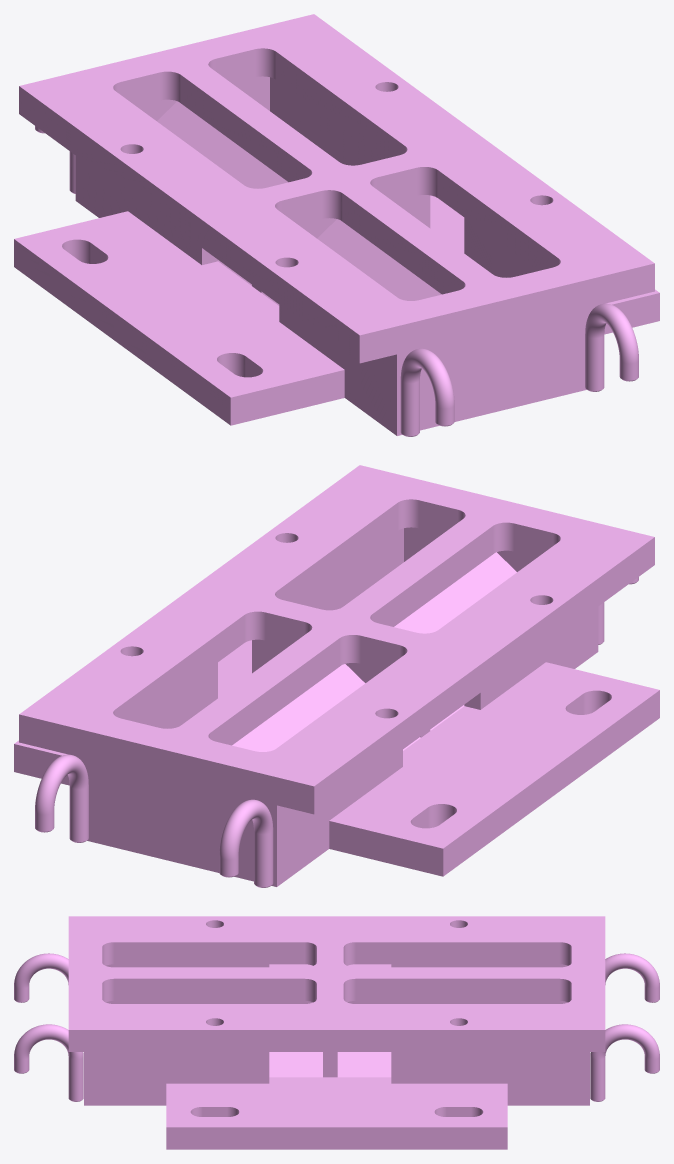
File: 9-20385-Lower Mould Support Seamless.glb
3 views of the same model, one above another, from view 1: azimuth 30°, elevation 25°; view 2: azimuth 150°, elevation 25°; view 3: azimuth 270°, elevation 25° (orthographic). The views are drawn at different scales.
Parts seen in each view (by area): view 1: 9-20385-Lower Mould Support Seamless; view 2: 9-20385-Lower Mould Support Seamless; view 3: 9-20385-Lower Mould Support Seamless.
Part boxes in pixels (x1,y1,x2,y2): 9-20385-Lower Mould Support Seamless: (14, 14, 659, 436); 9-20385-Lower Mould Support Seamless: (14, 465, 659, 887); 9-20385-Lower Mould Support Seamless: (14, 916, 659, 1149).
Size of the model in its own units: 0.32 by 0.085 by 0.5296.
